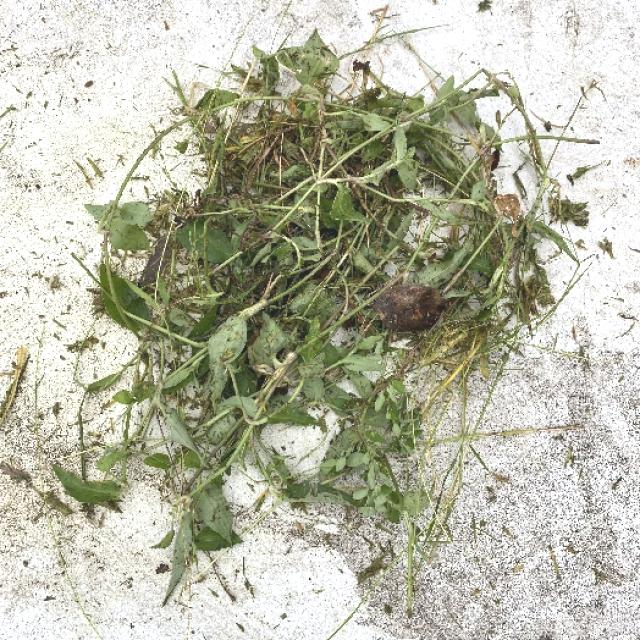wet: (81, 31, 583, 598), (108, 47, 560, 571)
